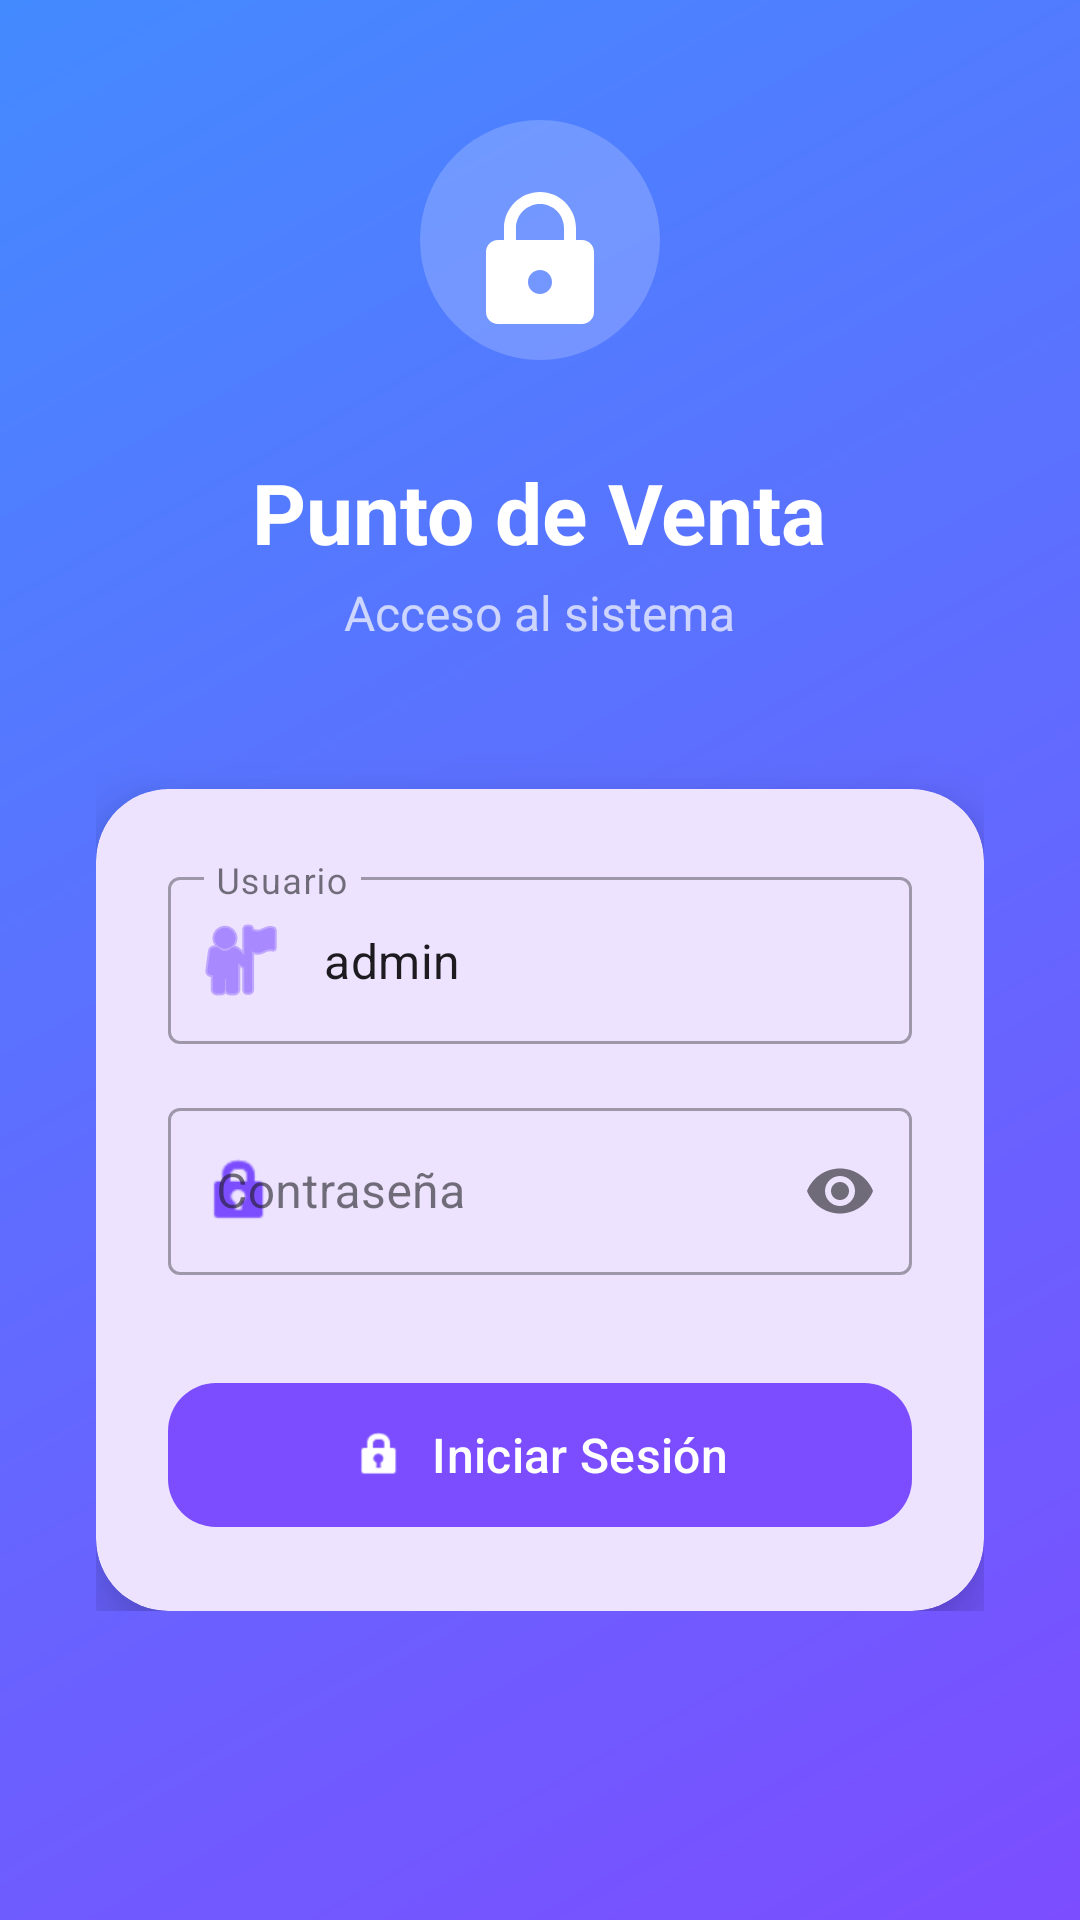

Locate icon controls on the screen. Image size 1080*1920, boxes as (x1, y1, x2, y2).
lock: (420, 120, 660, 360)
